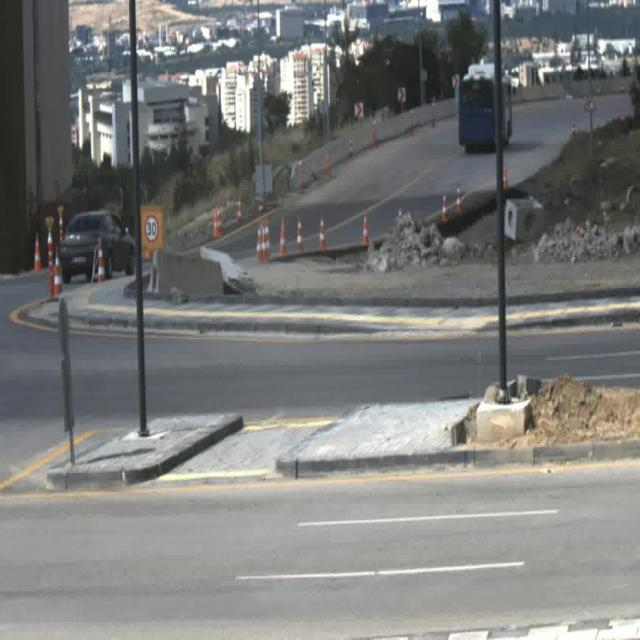Bus: (457, 66, 514, 156)
Car: (61, 208, 136, 282)
